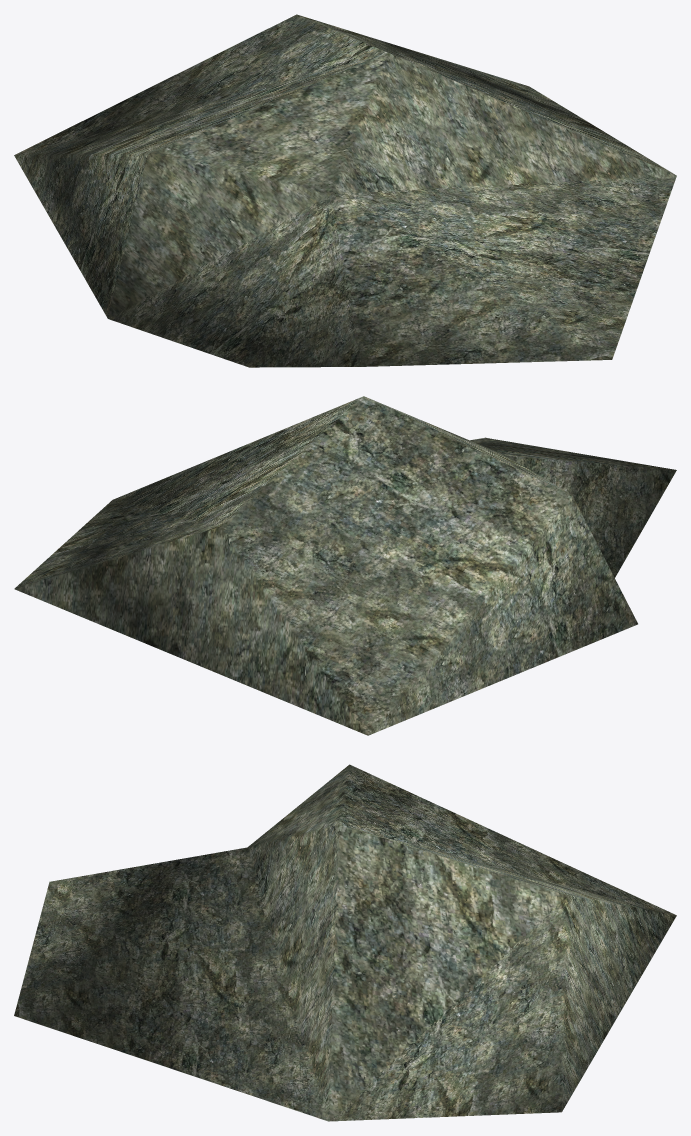
The model's file is mtns_rock_grey_a4_l3.fbx.
3 views of the same model, one above another, from view 1: azimuth 30°, elevation 25°; view 2: azimuth 150°, elevation 25°; view 3: azimuth 270°, elevation 25° (orthographic). The views are drawn at different scales.
Visible parts, largest first — view 1: mesh_node; view 2: mesh_node; view 3: mesh_node.
Part boxes in pixels (bbox=[...]): mesh_node: bbox=[14, 14, 676, 367]; mesh_node: bbox=[14, 396, 676, 735]; mesh_node: bbox=[14, 764, 676, 1121].
Bounding box in the file's own units: 2.67 × 1.37 × 2.93.
Materials: 1 (1 with a texture image).
